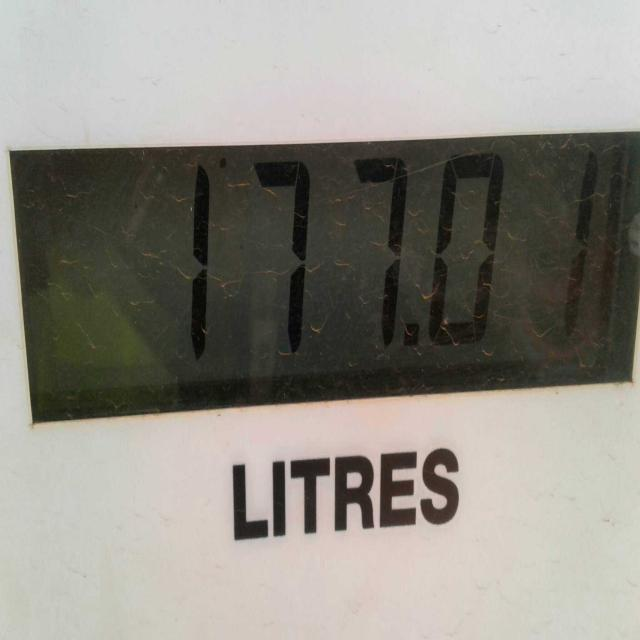.: (405, 318, 419, 354)
0: (423, 158, 499, 348)
1: (182, 158, 223, 368), (563, 134, 599, 338)
7: (247, 149, 313, 354), (352, 150, 409, 353)
